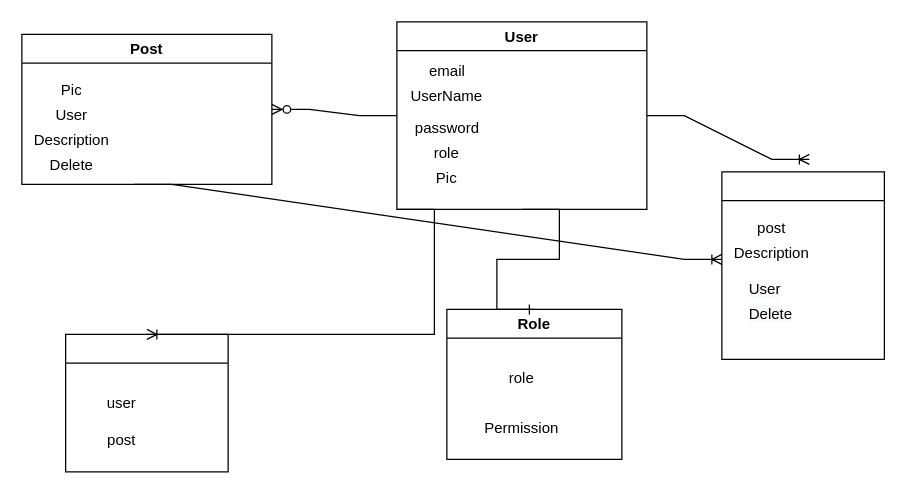
Some shapes in this 906 by 494 pixel diagram are drawn without their labels. Here are the shapes that lost their labels. From the top down, the box of each, then its label:
(721, 171, 884, 359): Comment
(64, 333, 228, 472): Like
